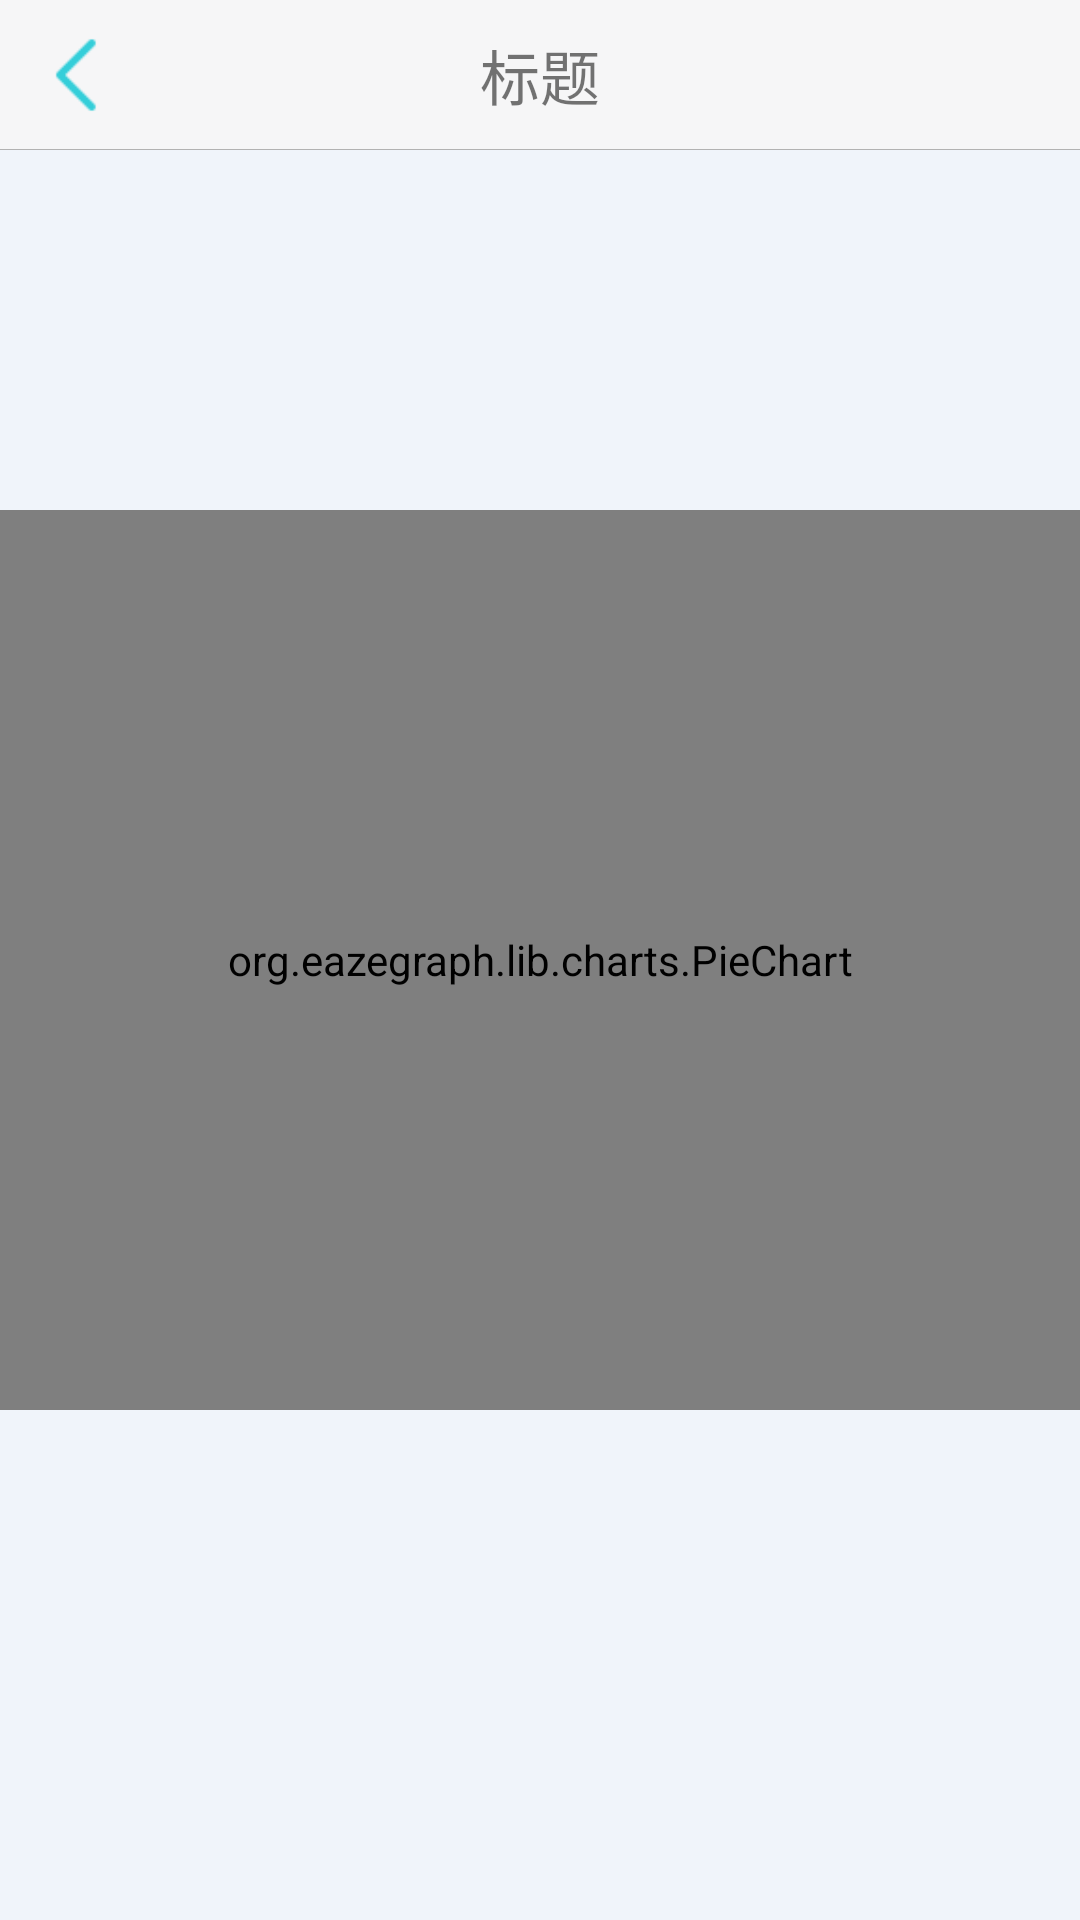

Screen size 1080x1920. Icon name, then its box in pixels as (x1, y1, x2, y2):
explorer backward: (56, 39, 96, 111)
